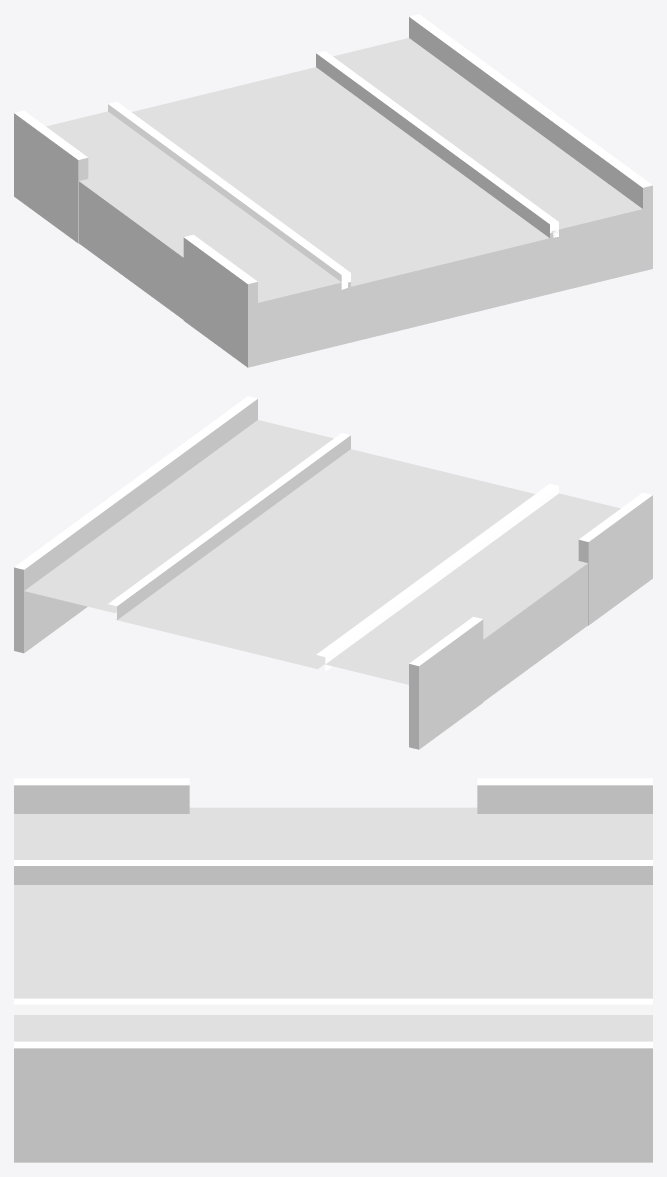
Rendered from port_tile_1x1_5.glb.
3 views of the same model, one above another, from view 1: azimuth 30°, elevation 25°; view 2: azimuth 150°, elevation 25°; view 3: azimuth 270°, elevation 25° (orthographic). The views are drawn at different scales.
Parts seen in each view (by area): view 1: port_tile_1x1_5(Clone); view 2: port_tile_1x1_5(Clone); view 3: port_tile_1x1_5(Clone).
Part boxes in pixels (x1,y1,x2,y2): port_tile_1x1_5(Clone): (14,14,652,367); port_tile_1x1_5(Clone): (14,396,652,749); port_tile_1x1_5(Clone): (14,778,652,1162).
Bounding box in the file's own units: 8 × 1.58 × 8.
1 material, 1 textured.
